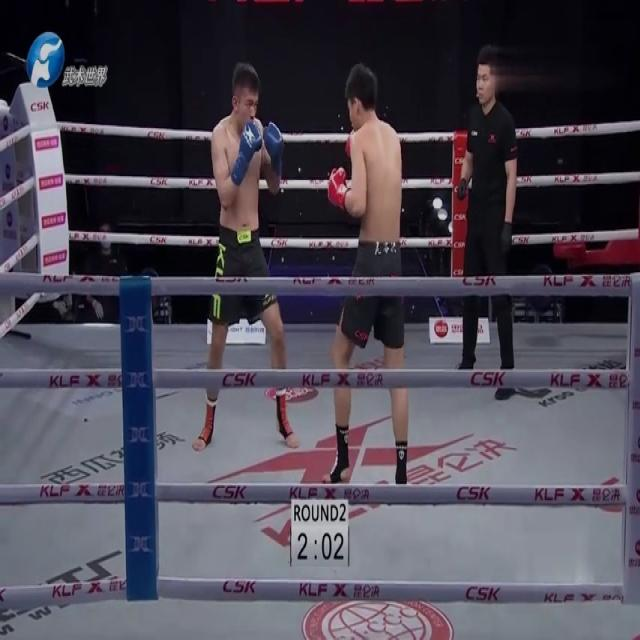fight: (194, 52, 419, 488)
non-fight: (451, 41, 518, 396)
